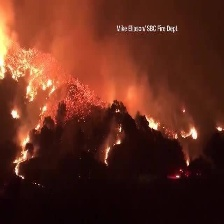fire: (1, 41, 59, 186), (170, 123, 205, 169), (104, 126, 124, 168), (147, 115, 159, 134), (215, 122, 224, 132)
smoke: (49, 2, 155, 106)
